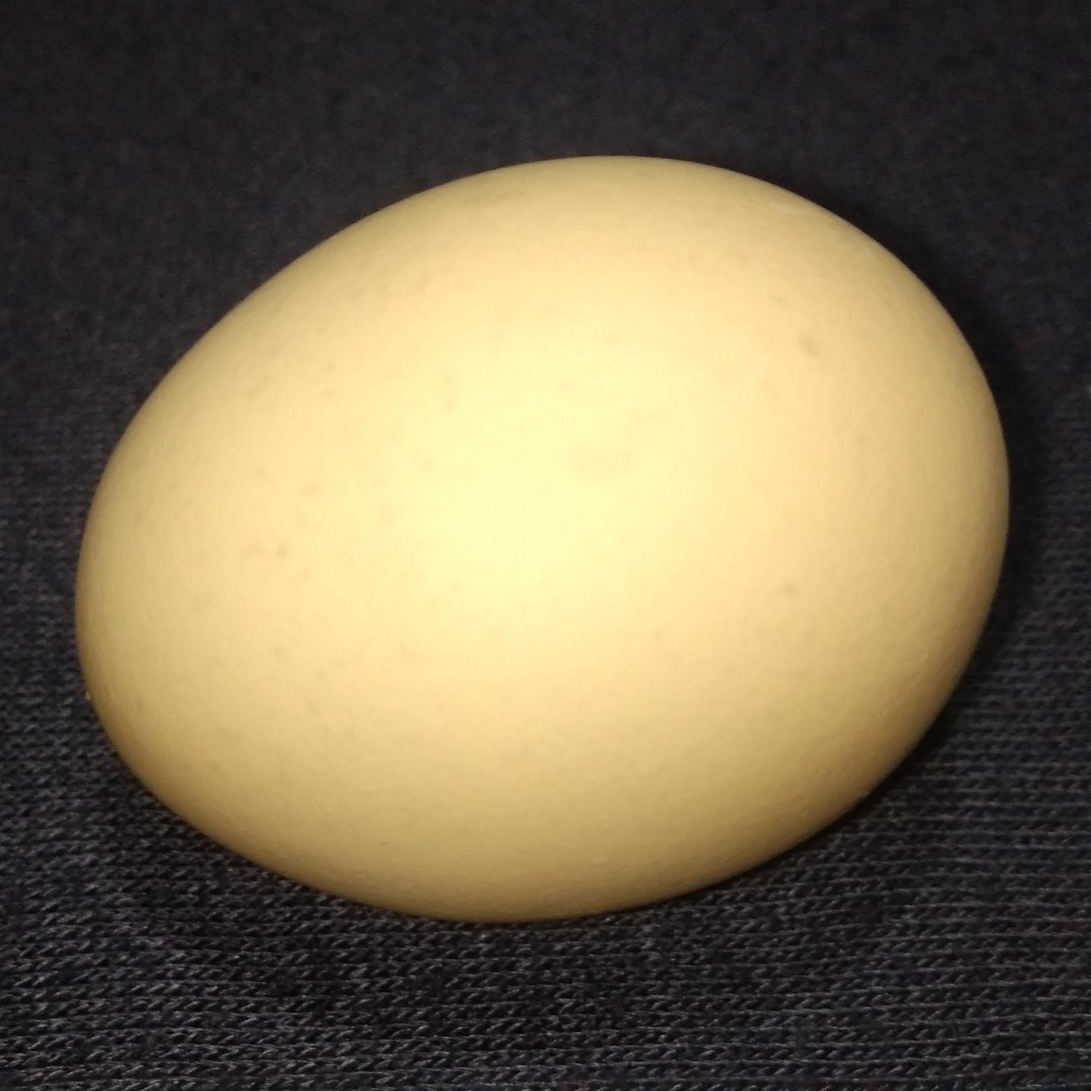egg: (69, 153, 1016, 927)
